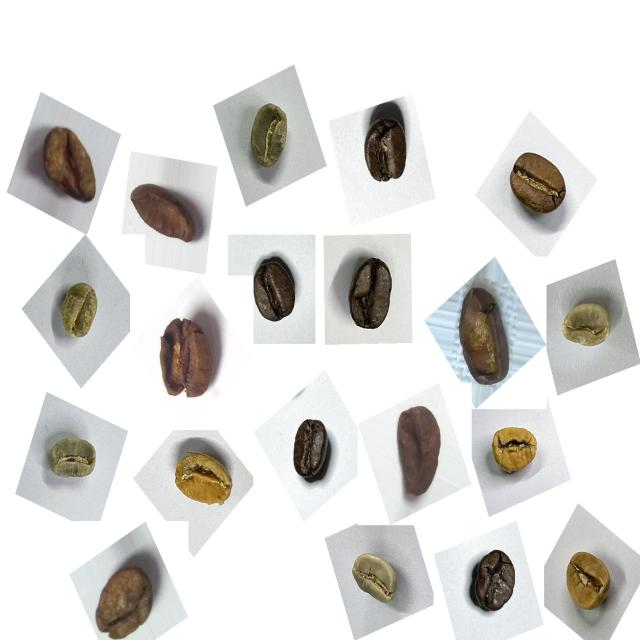bad: (448, 278, 522, 394), (152, 306, 227, 410), (88, 547, 169, 639), (384, 395, 452, 504), (32, 120, 104, 214), (128, 171, 207, 255)
dark: (336, 248, 406, 344), (349, 108, 418, 200), (464, 538, 529, 623), (244, 250, 309, 335), (283, 410, 343, 494)
green: (237, 95, 301, 181), (553, 290, 621, 364), (343, 541, 409, 616), (49, 273, 109, 351), (40, 426, 106, 495)
light: (168, 442, 243, 522), (554, 541, 619, 623), (484, 415, 548, 486)
medium: (500, 143, 574, 230)
